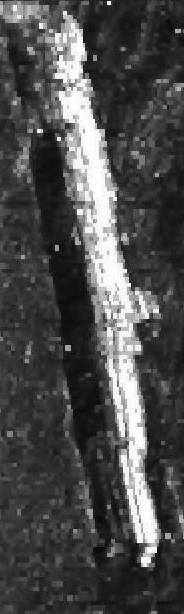ship: (14, 6, 169, 571)
